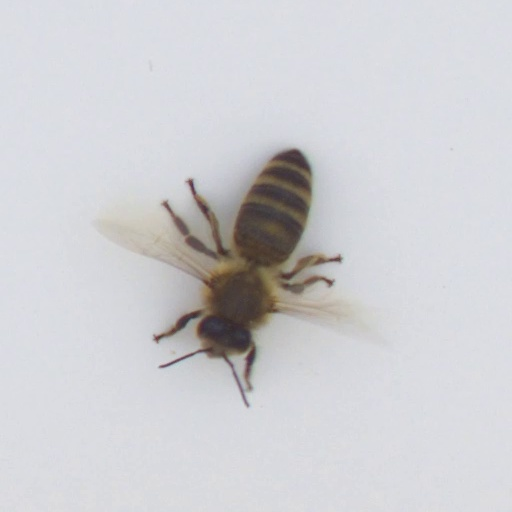Bee: (177, 132, 342, 380)
Thorax: (200, 262, 277, 326)
